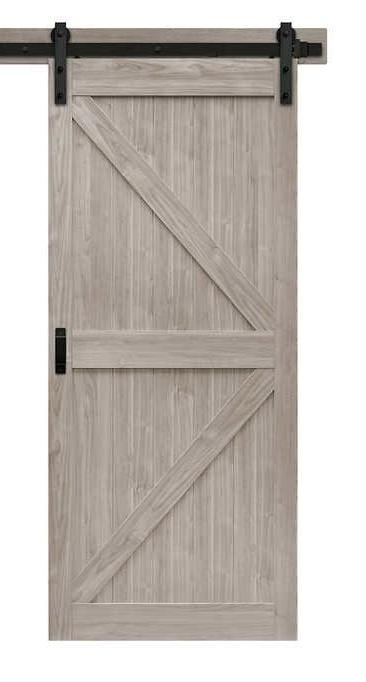door: (50, 47, 299, 642)
